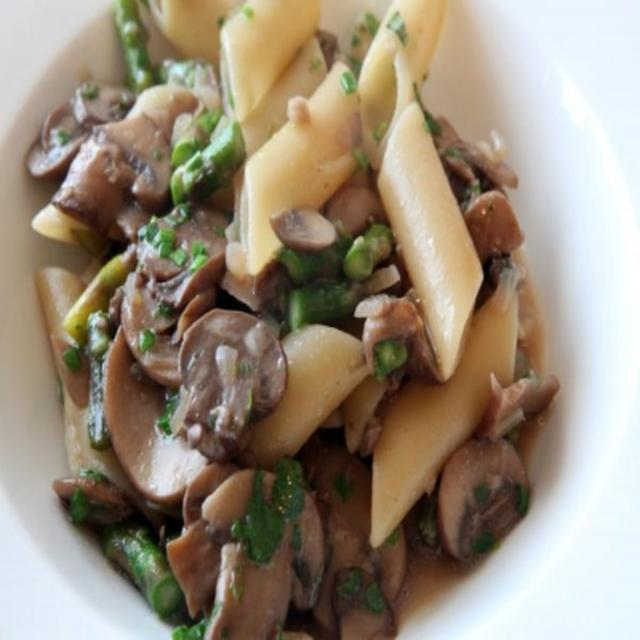Mushroom: (26, 71, 561, 638)
